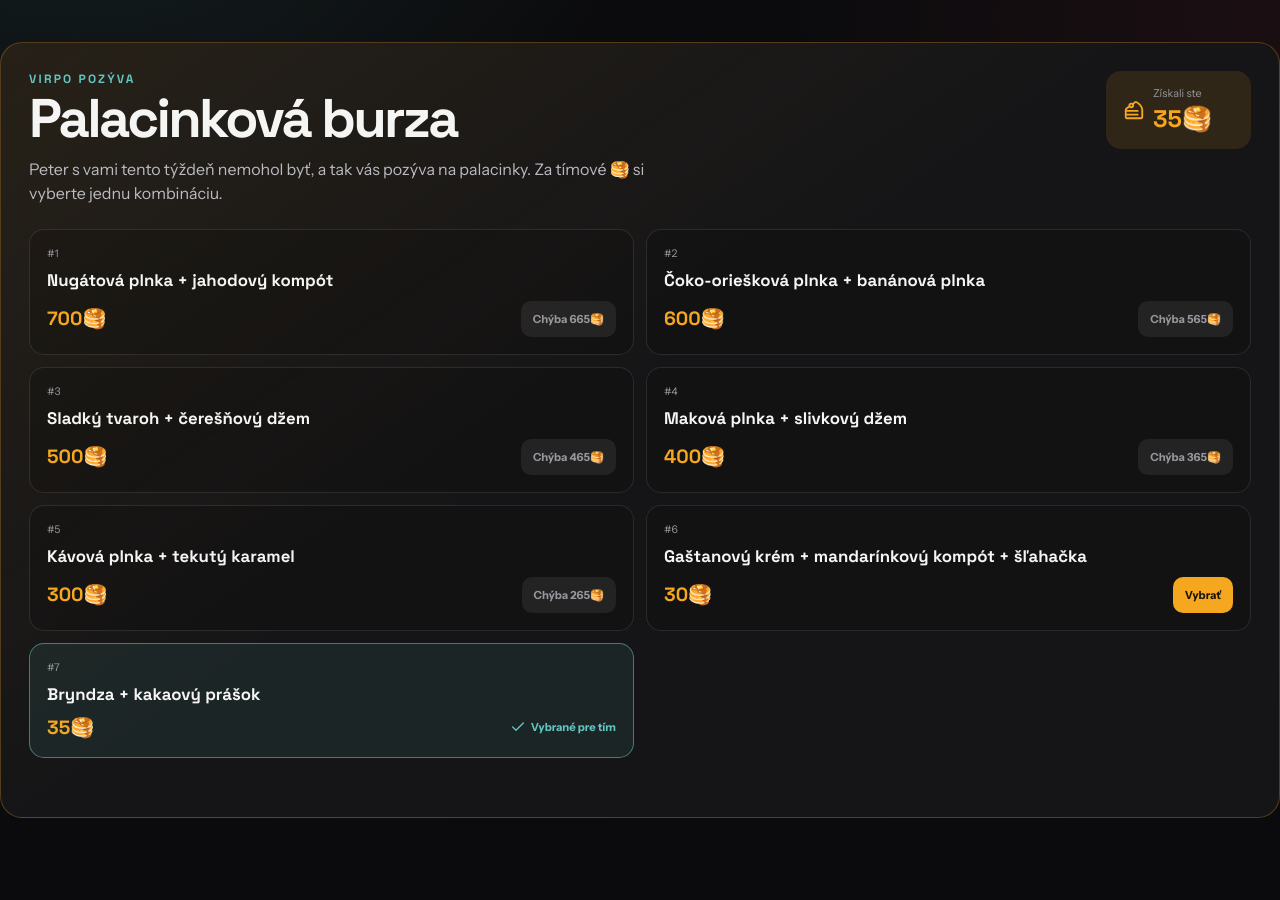
Test: PancakeMarket › preserves the persisted selection when a replacement fails
What coordinates should you click on to do the following:
click the button with aria-label "Vybrať Gaštanový krém + mandarínkový kompót + šľahačka"
I would click on:
 (1203, 595)
Its box is [1173,577,1233,613].
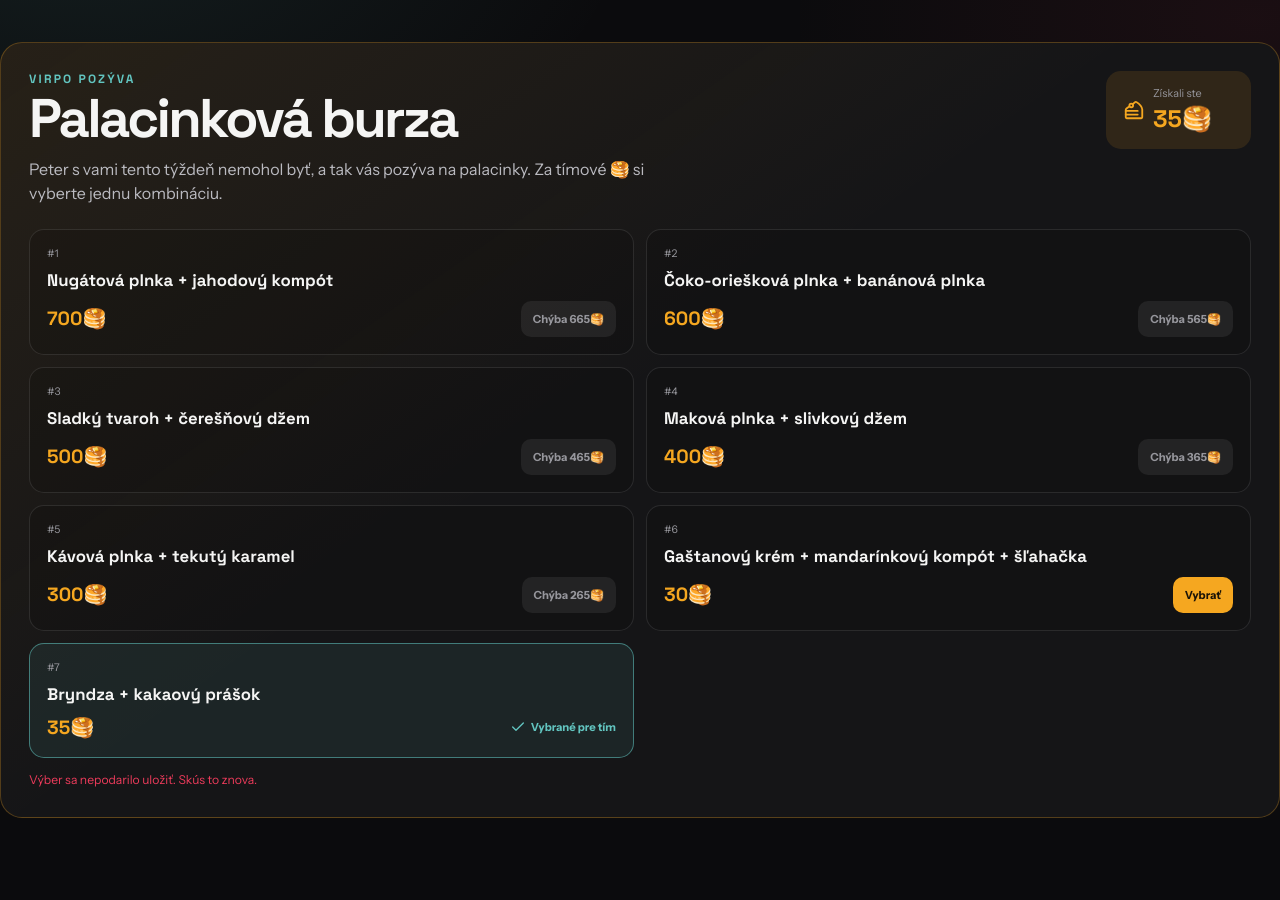
Expected: the text "Vybrané pre tím" is shown, [510,719,616,735]
Expected: the text "Výber sa nepodarilo uložiť. Skús to znova." is shown, [29,772,257,787]
